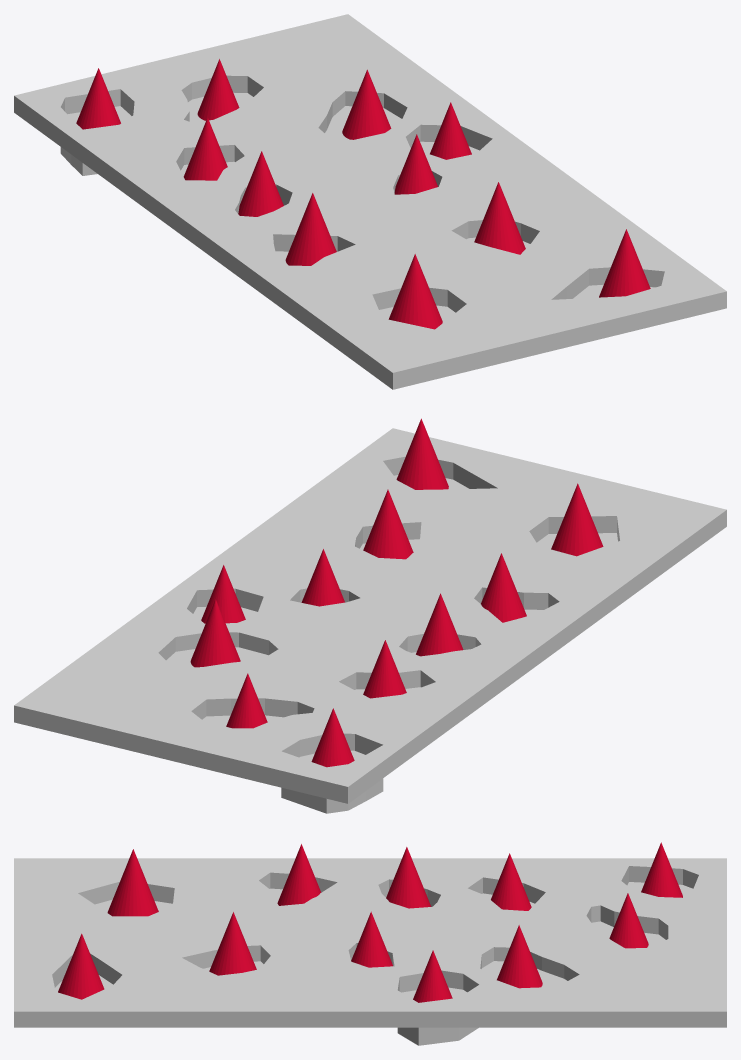
The model's file is Trap.fbx.
3 renders of one model, top to bottom at view 1: azimuth 30°, elevation 25°; view 2: azimuth 150°, elevation 25°; view 3: azimuth 270°, elevation 25°, orthographic. The views are drawn at different scales.
Visible parts, largest first — view 1: Cube, Cone; view 2: Cube, Cone; view 3: Cube, Cone.
Part boxes in pixels (left/top/right/bottom): Cube: left=14, top=14, right=726, bottom=389; Cone: left=76, top=59, right=650, bottom=329; Cube: left=14, top=428, right=726, bottom=813; Cone: left=190, top=418, right=603, bottom=767; Cube: left=14, top=858, right=726, bottom=1045; Cone: left=58, top=842, right=682, bottom=1002.
Bounding box in the file's own units: 294 × 82.82 × 577.
